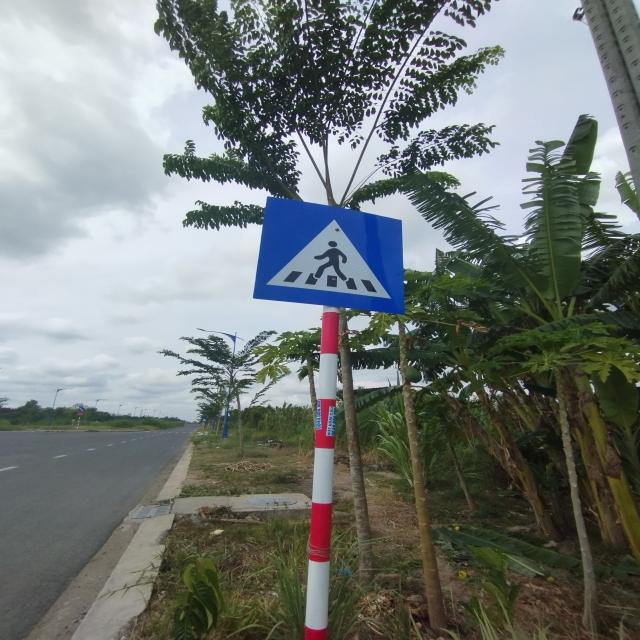Giao_Nhau_Duong_Uu_Tien: (253, 196, 405, 312)
